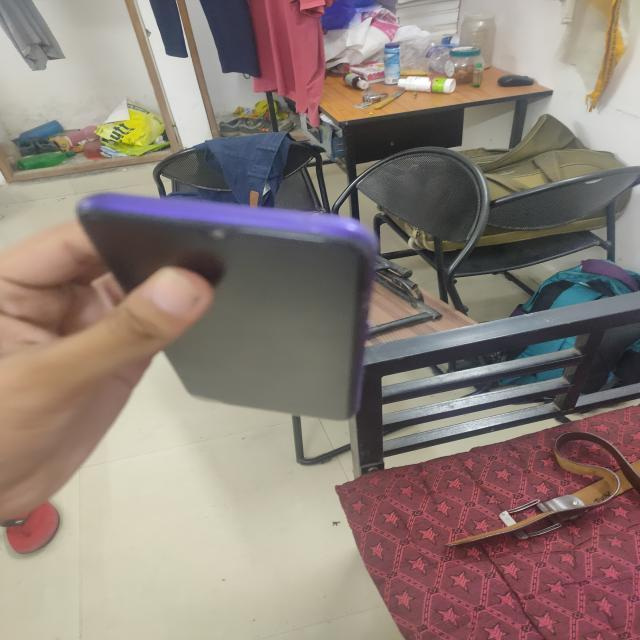Phone: (72, 192, 377, 425)
